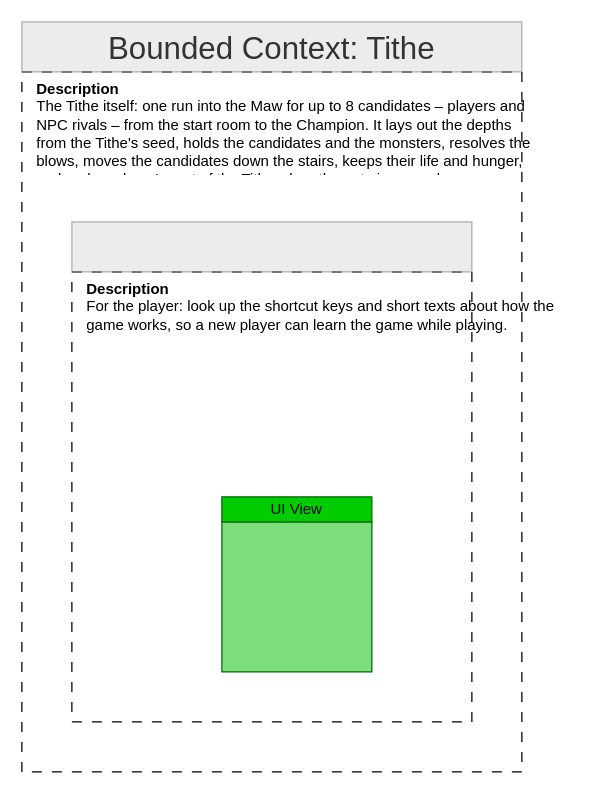
The diagram is 606 pixels wide and 794 high, and some of its shapes have lost their labels. The centre of each missing label's shape, as x and y in pixels:
Help Player: the point at 296,596
Use Case: Read help: the point at 271,246
